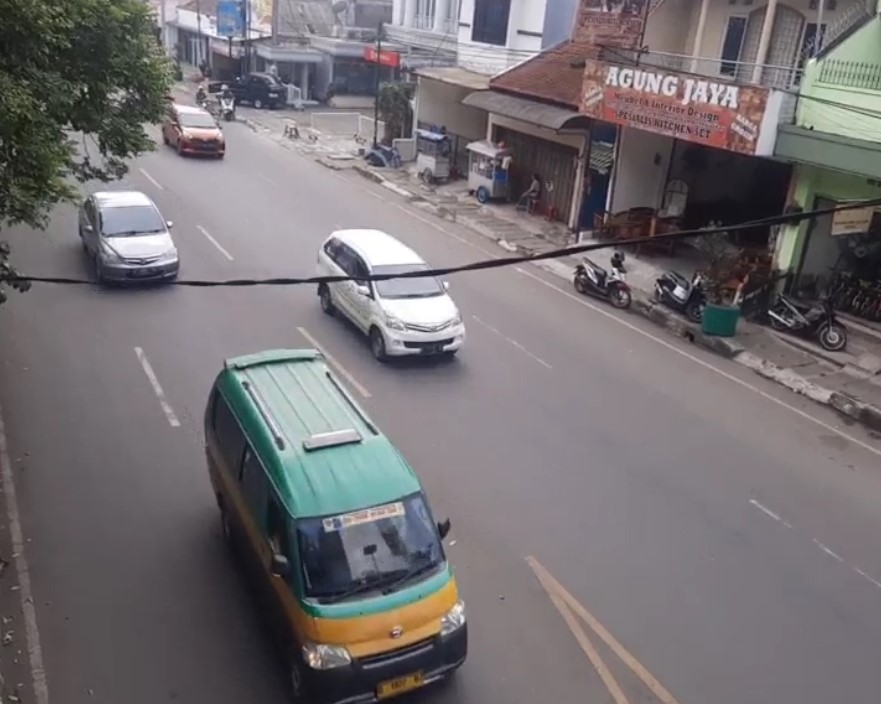mobil: (191, 339, 480, 695), (313, 227, 472, 366), (73, 188, 186, 295)
